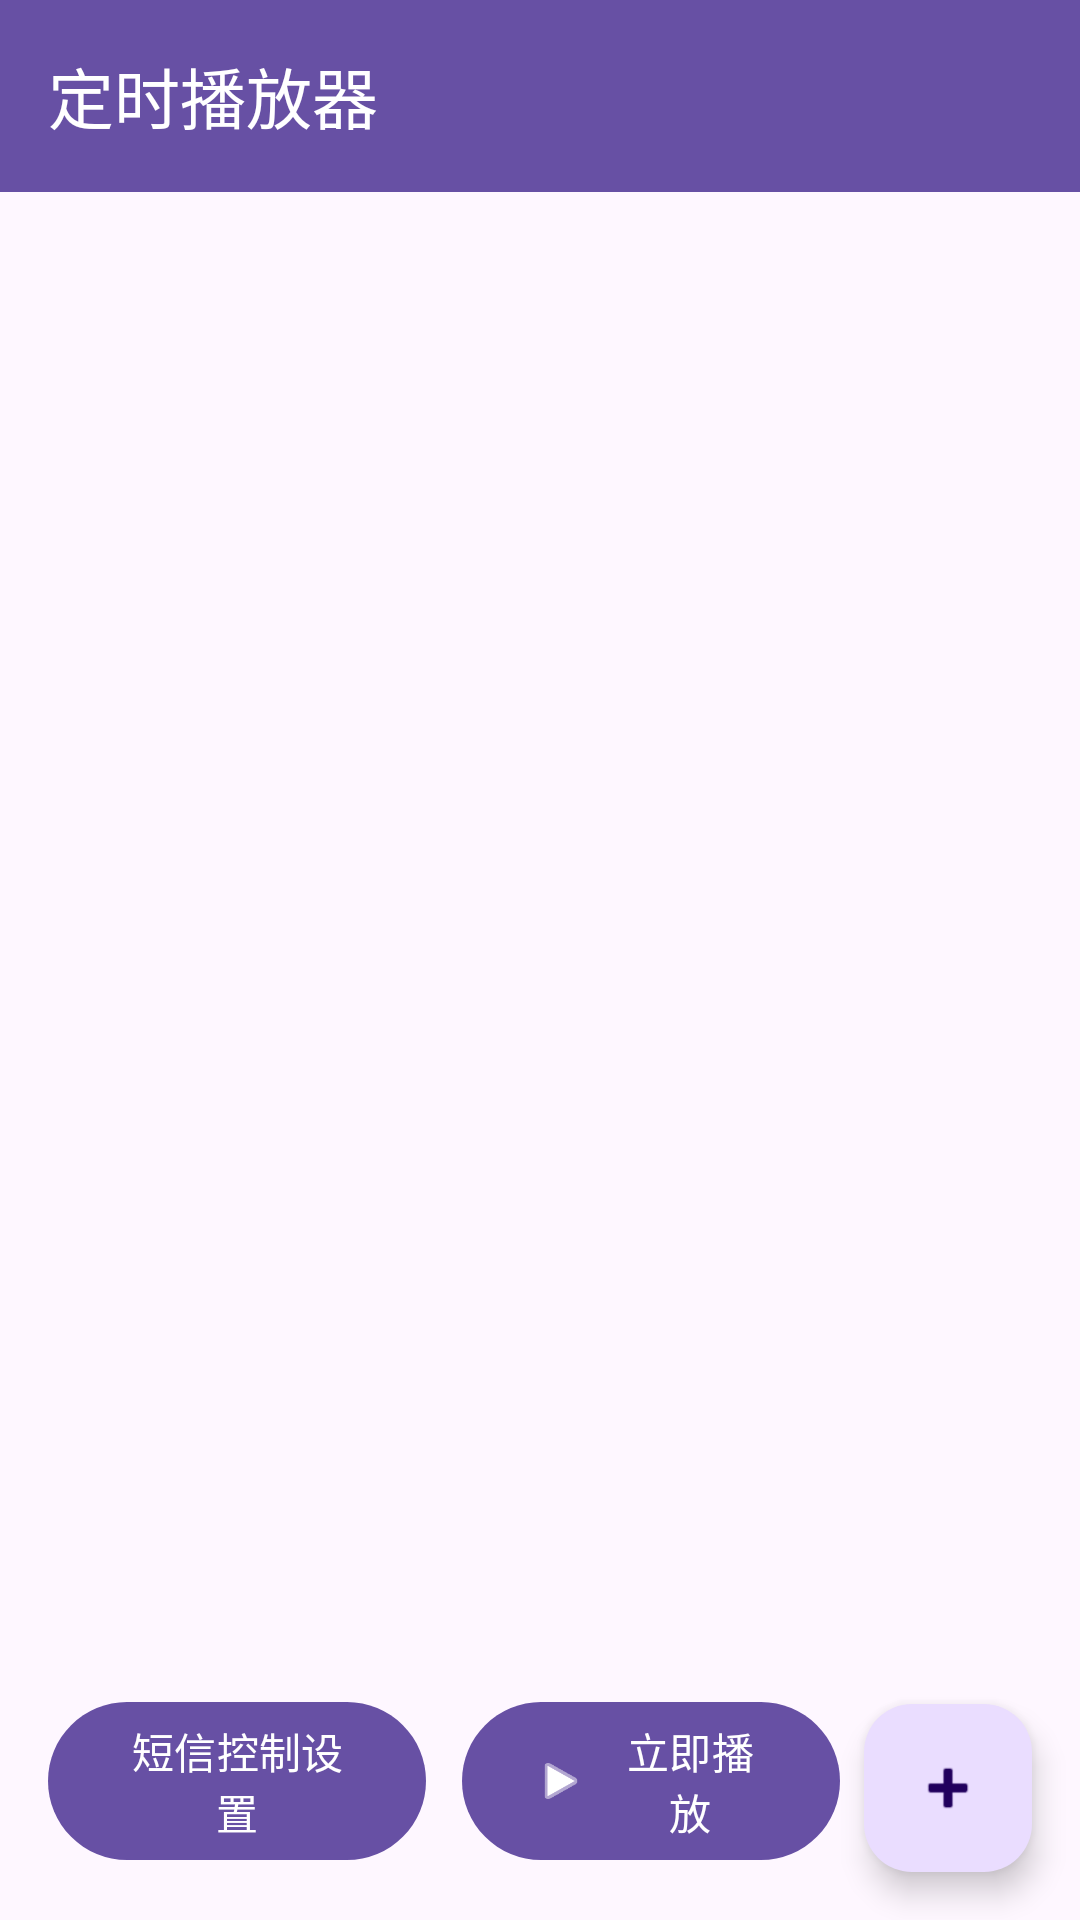

Screen size 1080 x 1920. Icon name, then its box in pixels as [left=x1, top=y1, right=x2, bottom=y2]:
添加任务: [left=864, top=1704, right=1032, bottom=1872]
